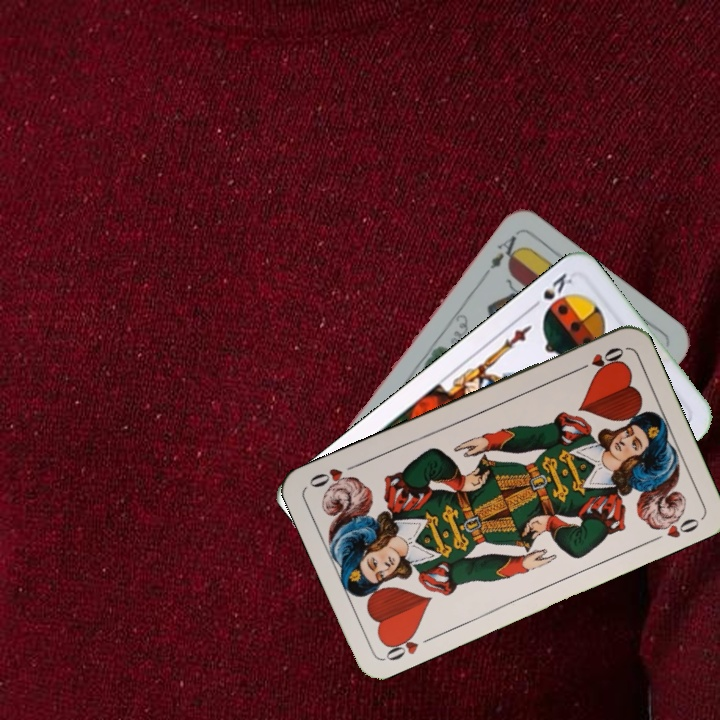EA: (479, 231, 525, 280)
HO: (380, 627, 437, 664), (571, 343, 627, 375)
SK: (525, 268, 576, 313)
